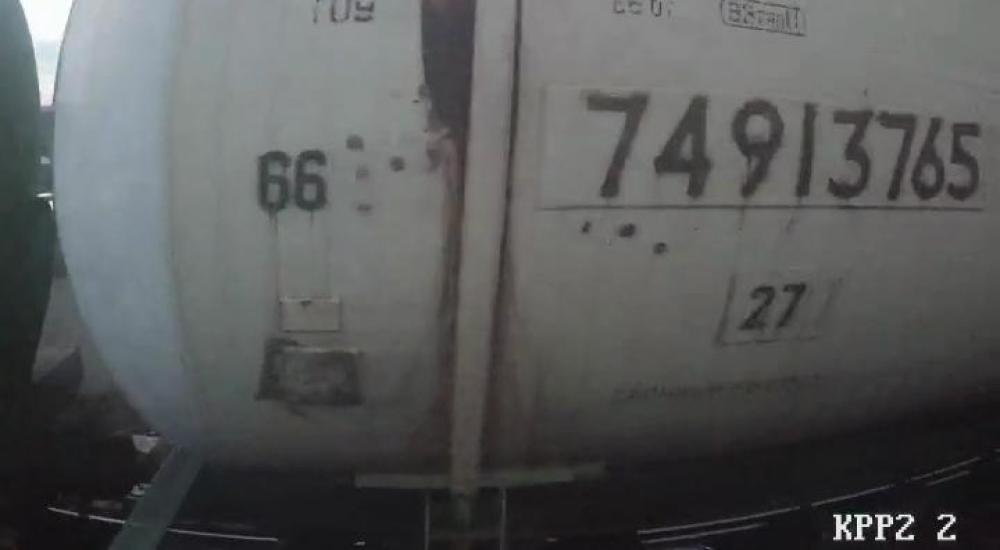Wagon-number: (576, 86, 986, 210)
